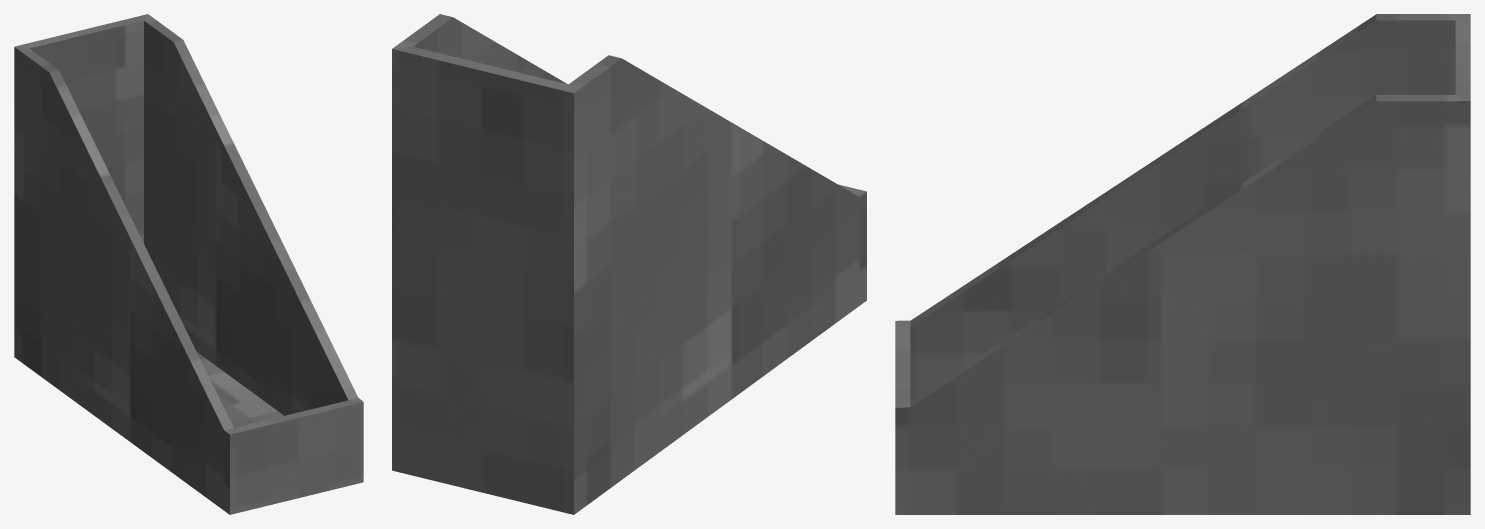
File: SM_Organiser.fbx
3 renders of one model, left to right at view 1: azimuth 30°, elevation 25°; view 2: azimuth 150°, elevation 25°; view 3: azimuth 270°, elevation 25°, orthographic. The views are drawn at different scales.
Parts seen in each view (by area): view 1: SM_Organiser; view 2: SM_Organiser; view 3: SM_Organiser.
Boxes of the visible parts, x1=… form: SM_Organiser: x1=14, y1=14, x2=363, y2=514; SM_Organiser: x1=392, y1=14, x2=866, y2=514; SM_Organiser: x1=895, y1=14, x2=1470, y2=514.
Size of the model in its own units: 15.53 by 34.38 by 43.31.
Materials: 1 (1 with a texture image).
